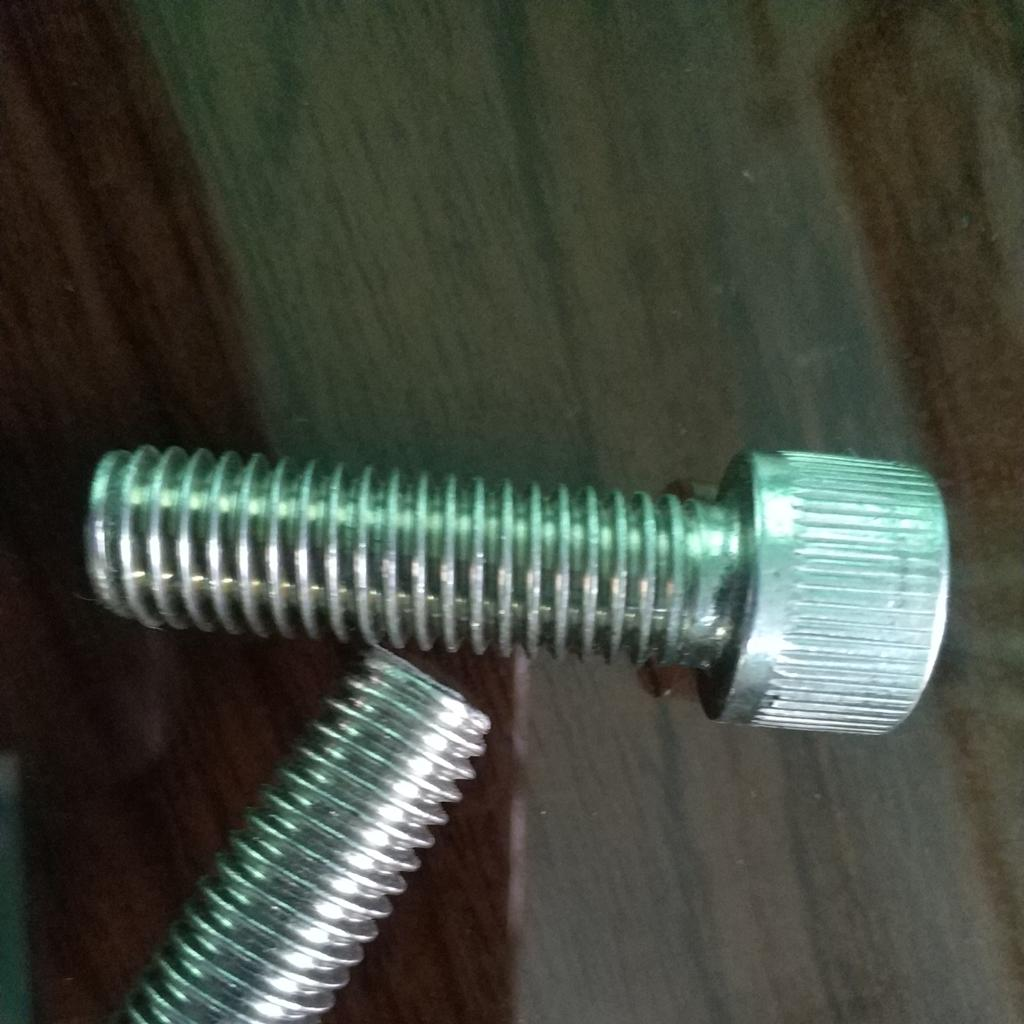screwtype1silver: (72, 408, 949, 740)
